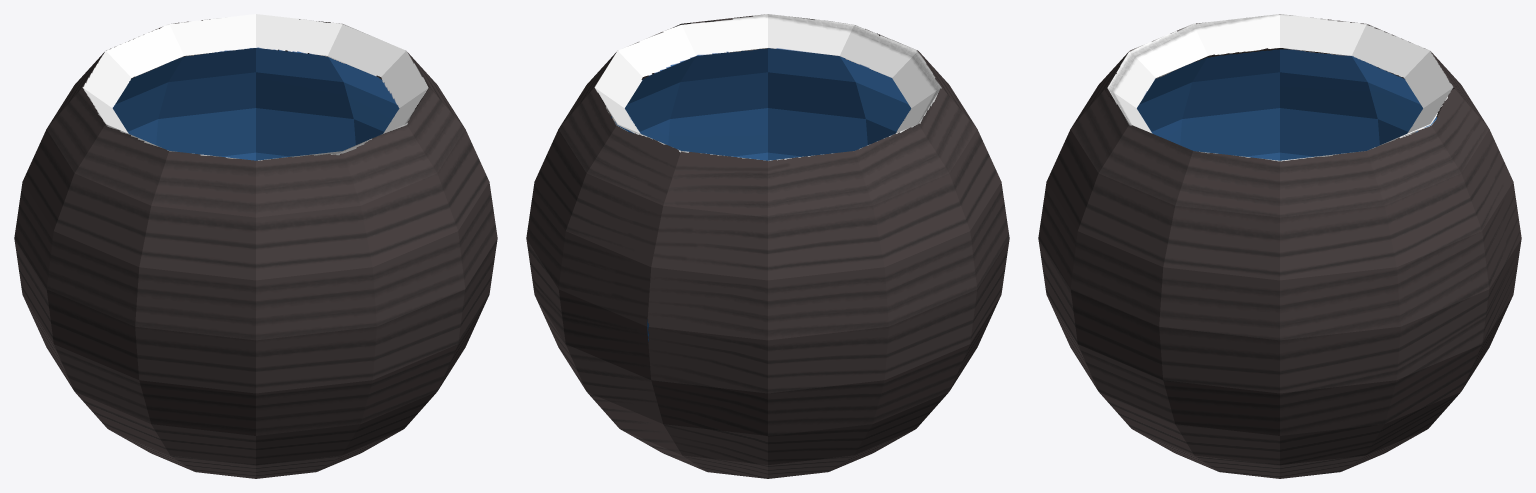
The model's file is sphere_container_model.fbx.
The picture shows the model from 3 angles, left to right: view 1: azimuth 30°, elevation 25°; view 2: azimuth 150°, elevation 25°; view 3: azimuth 270°, elevation 25°; orthographic projection.
Parts seen in each view (by area): view 1: pContainer; view 2: pContainer; view 3: pContainer.
Boxes of the visible parts, x1,y1,x2,y2 form: pContainer: [14, 14, 497, 478]; pContainer: [526, 14, 1009, 478]; pContainer: [1038, 14, 1521, 478].
Bounding box in the file's own units: 2.39 × 2.01 × 2.39.
